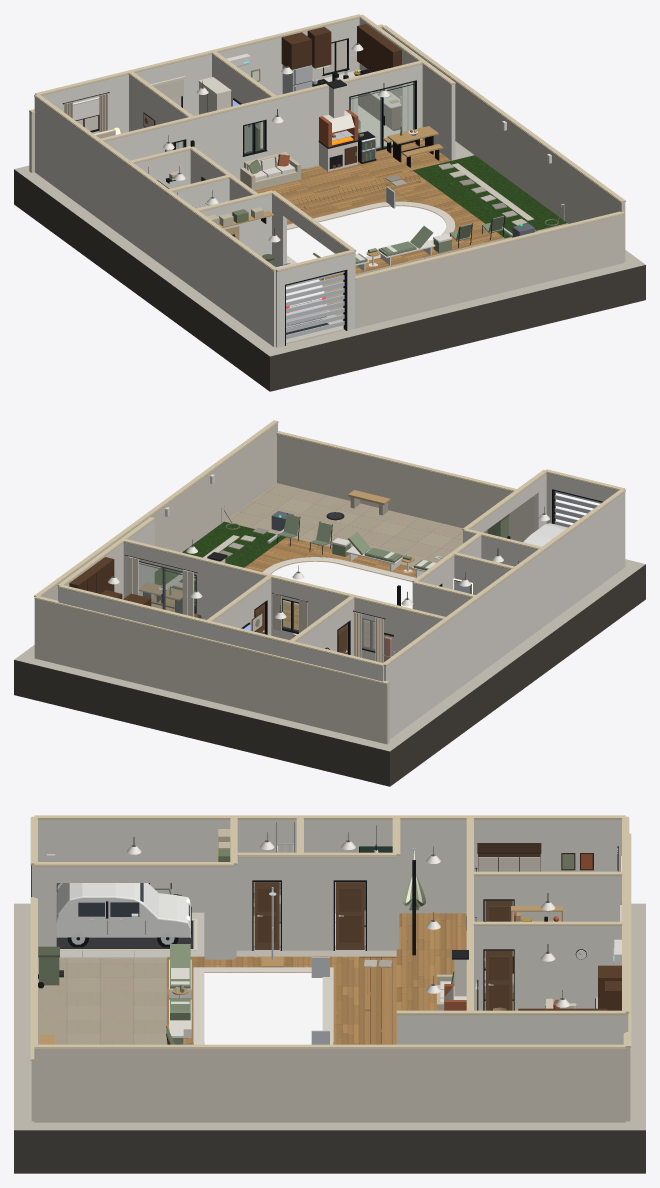
The model's file is casa.glb.
The picture shows the model from 3 angles, top to bottom: view 1: azimuth 30°, elevation 25°; view 2: azimuth 150°, elevation 25°; view 3: azimuth 270°, elevation 25°; orthographic projection. The views are drawn at different scales.
Size of the model in its own units: 14.5 by 4.39 by 17.1.
Materials: 205 (11 with a texture image).
